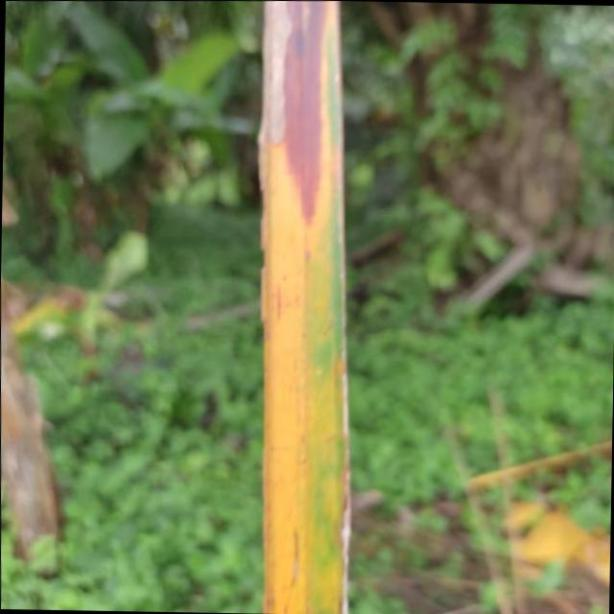Megnesium: (254, 0, 352, 614)
